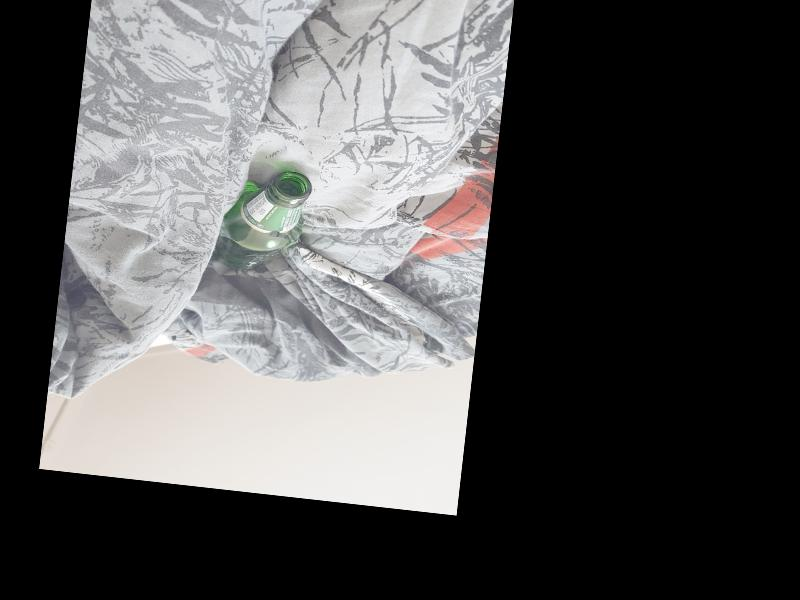Beer: (218, 164, 310, 274)
